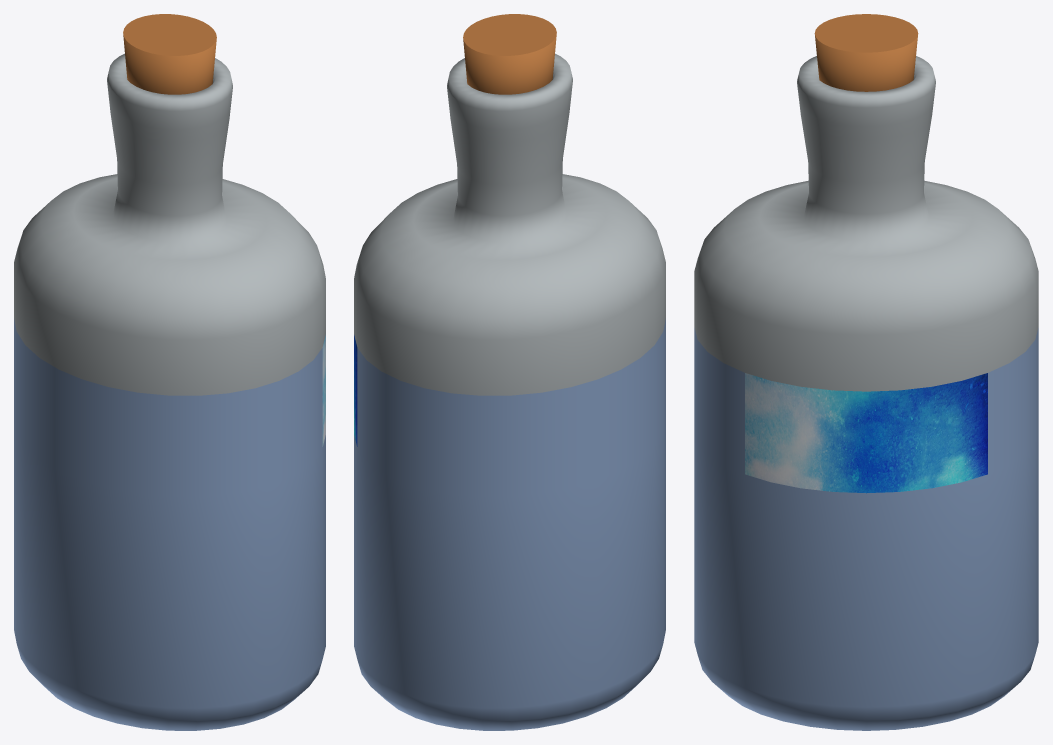
The model's file is potionBlue.fbx.
The picture shows the model from 3 angles, left to right: view 1: azimuth 30°, elevation 25°; view 2: azimuth 150°, elevation 25°; view 3: azimuth 270°, elevation 25°; orthographic projection.
Parts seen in each view (by area): view 1: Cylinder.001, Cylinder.018, Cylinder.001_Cylinder.002; view 2: Cylinder.001, Cylinder.018, Cylinder.001_Cylinder.002; view 3: Cylinder.001, Cylinder.018, Cylinder.001_Cylinder.002.
Part boxes in pixels (x1,y1,x2,y2): Cylinder.001: (14,318,325,730); Cylinder.018: (14,53,325,395); Cylinder.001_Cylinder.002: (123,14,216,94); Cylinder.001: (354,318,665,730); Cylinder.018: (354,53,665,395); Cylinder.001_Cylinder.002: (463,14,556,94); Cylinder.001: (694,328,1038,730); Cylinder.018: (694,56,1038,391); Cylinder.001_Cylinder.002: (814,14,918,91).
Size of the model in its own units: 205 by 475 by 231.
3 materials, 1 textured.
